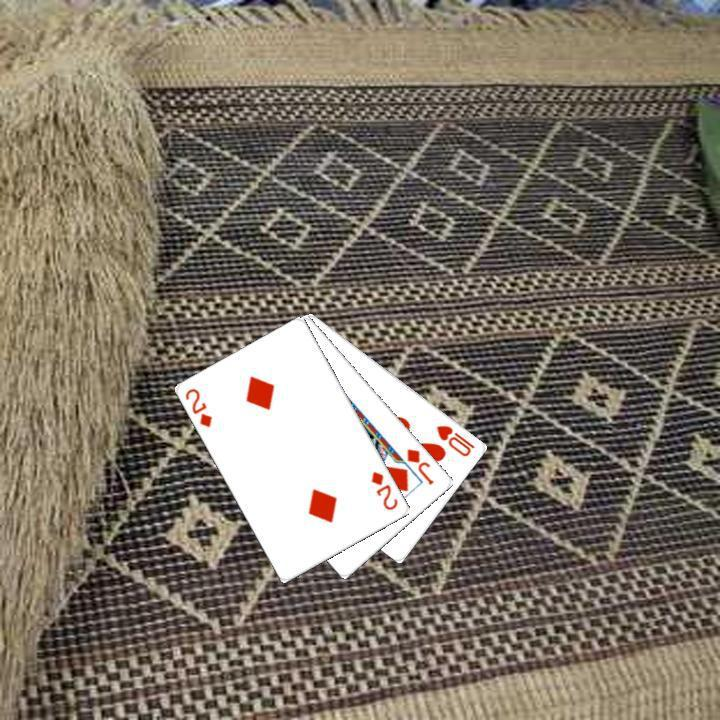10: (432, 421, 477, 459)
2: (181, 384, 215, 429), (367, 467, 400, 512)
J: (403, 444, 436, 487)
